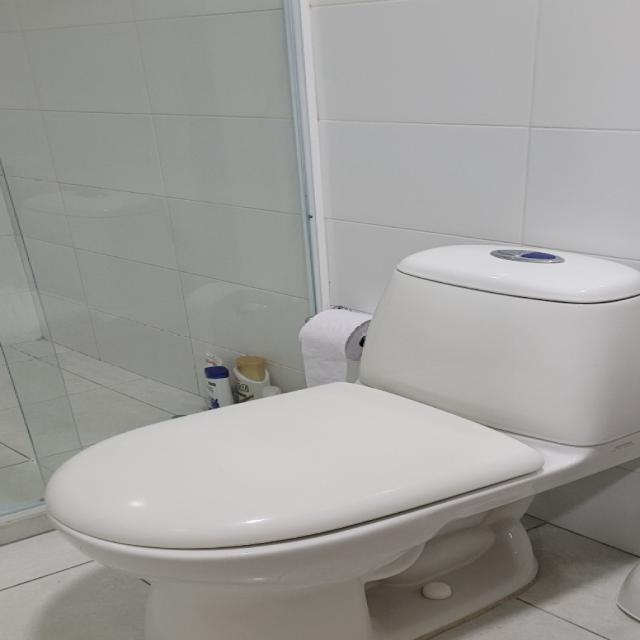toilet: (43, 243, 639, 638)
